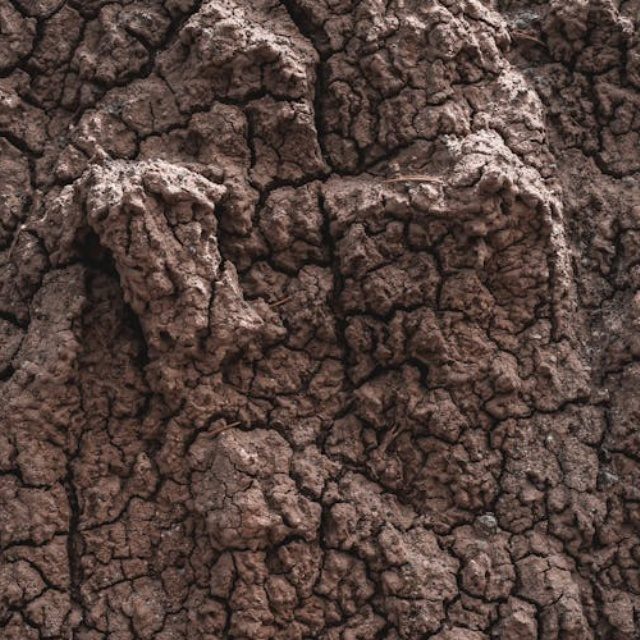网状裂隙: (0, 232, 640, 640)
